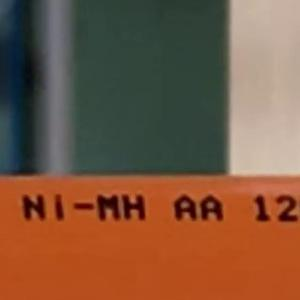NI-MH: (12, 185, 155, 230)
